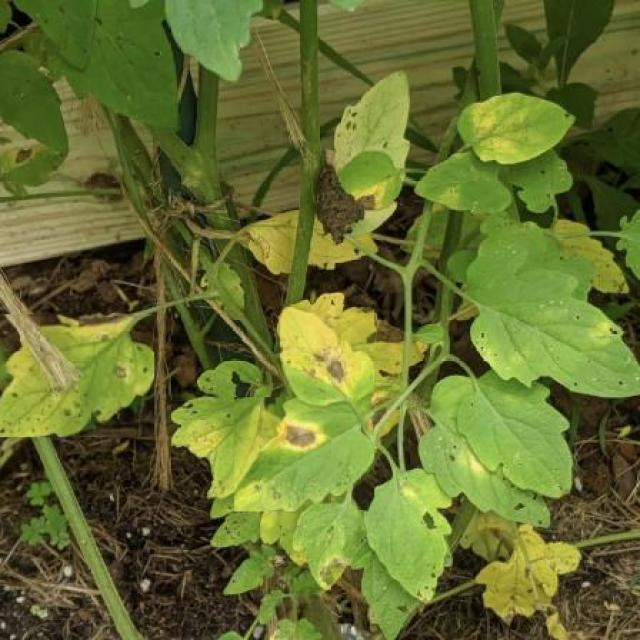Early Blight: (0, 313, 154, 437), (234, 397, 375, 512), (279, 304, 374, 406)
